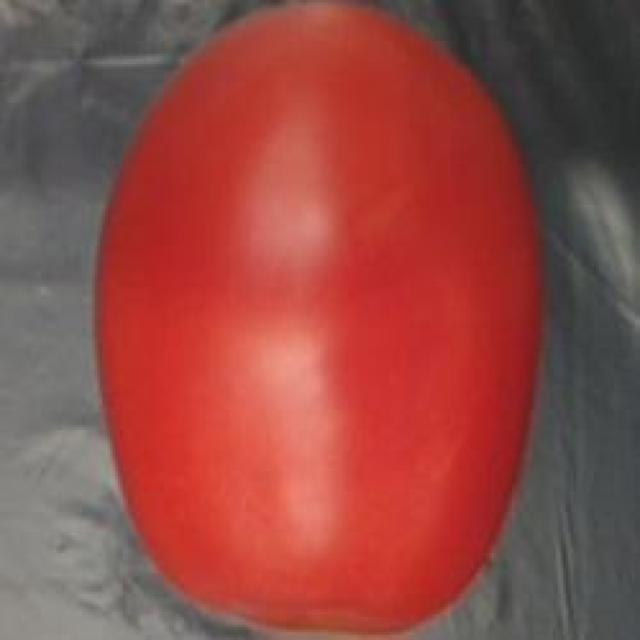ripe tomato: (84, 0, 556, 640)
